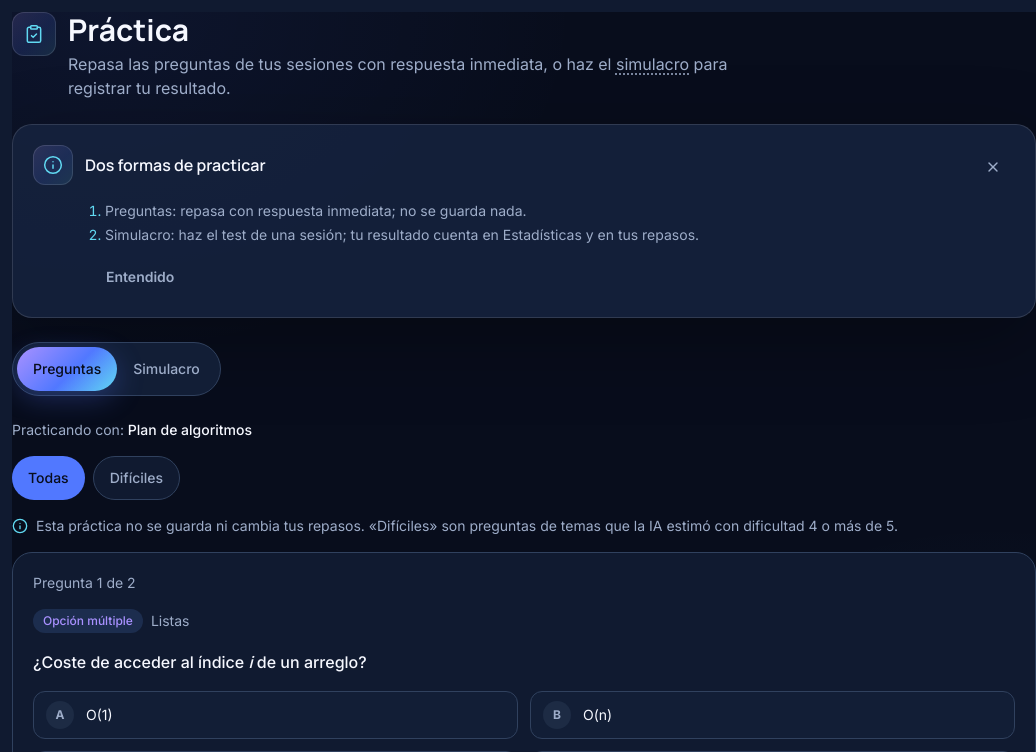
Scenario: PracticePage › filters to questions from topics the AI rated as hard
Check: the text "Pregunta 1 de 2" is shown, box [33, 573, 136, 593]
Click the button "Difíciles" at (136, 478), box [93, 456, 180, 500]
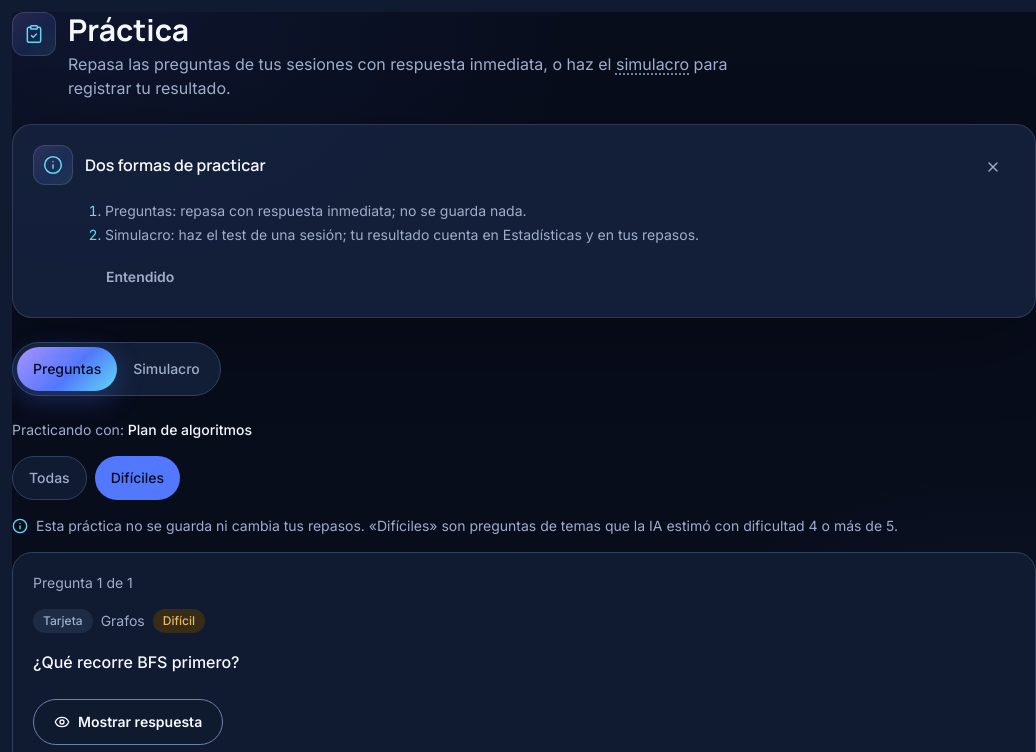
Check: the text "Pregunta 1 de 1" is shown, box [33, 573, 133, 593]
Check: the text "¿Qué recorre BFS primero?" is shown, box [33, 652, 240, 672]
Check: the text "Difícil" is shown, box [153, 609, 205, 633]
